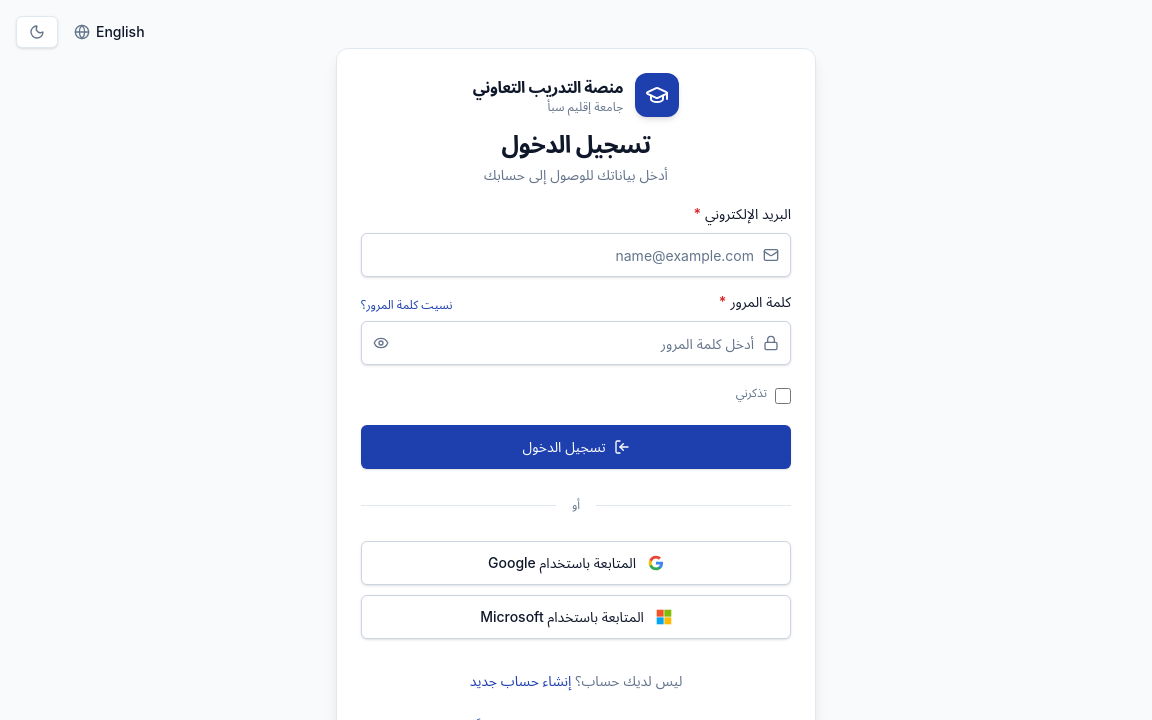
LoginPage Component (TEP-563 Wired Flow) › toggles language when language button is clicked
Click the button "English" at (109, 32), box [66,18,153,46]
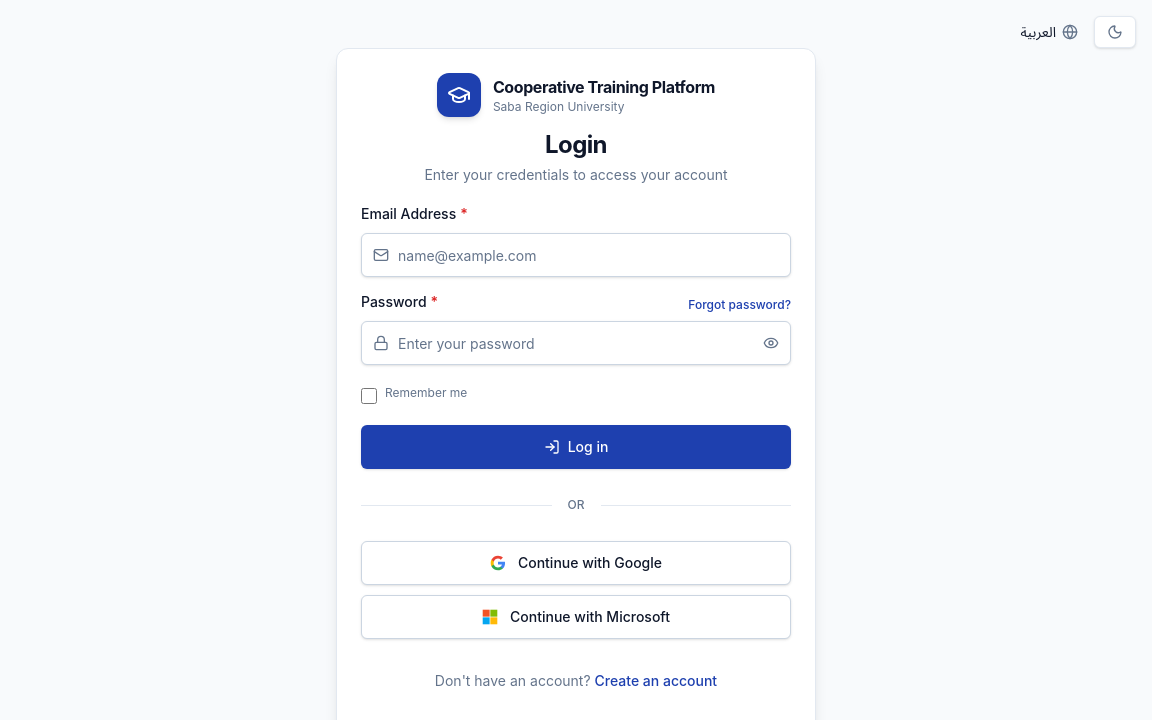
Expected: the heading "Login" is shown, [545,130,607,159]
Expected: the text "العربية" is shown, [1020,22,1056,42]
